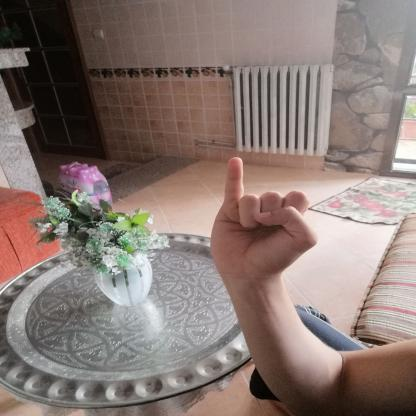MEEM: (195, 148, 331, 290)
